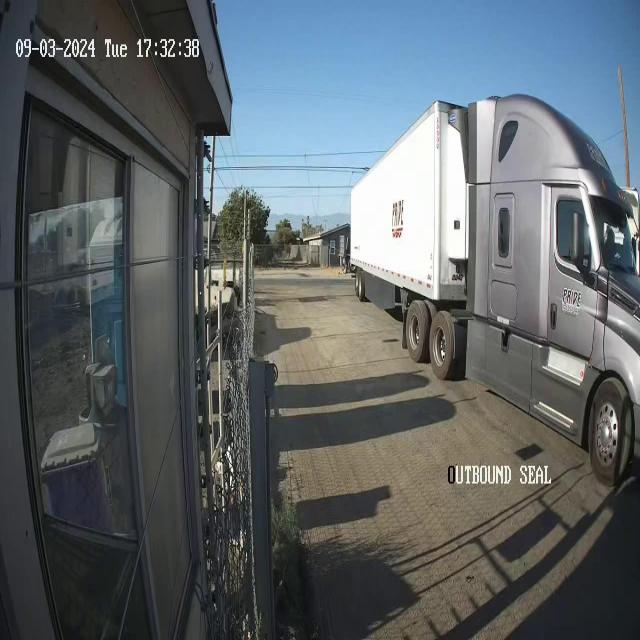TRUCK_IN: (349, 99, 640, 489)
